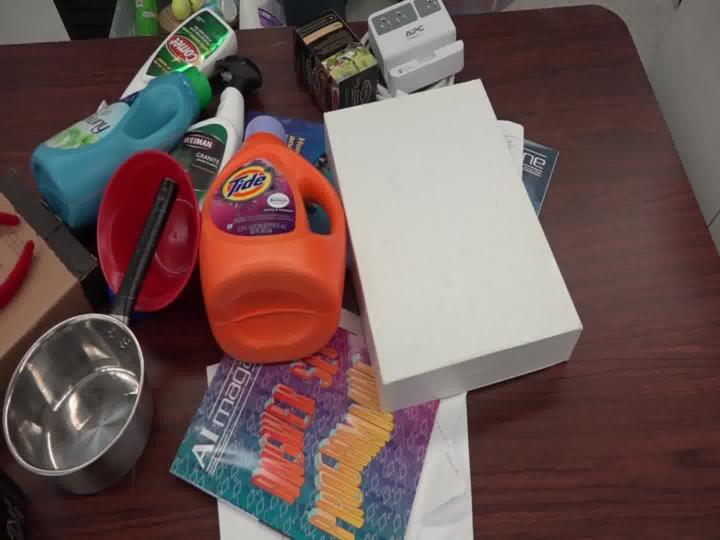tide: (173, 81, 368, 360)
